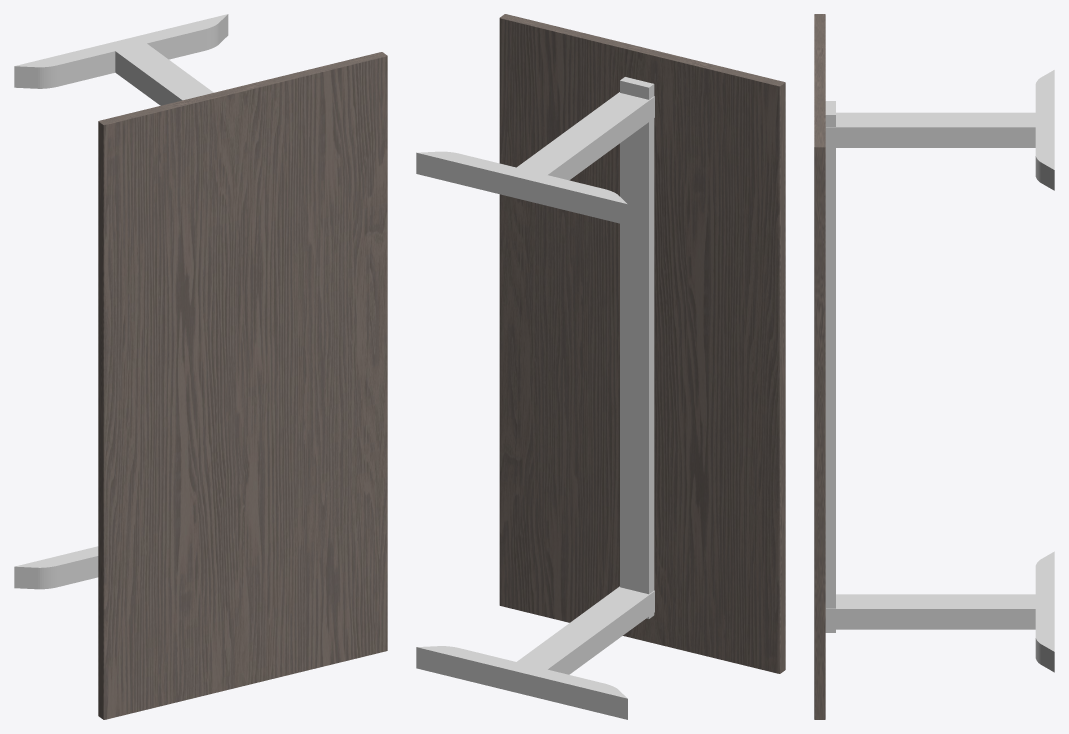
The model's file is work_table.glb.
The picture shows the model from 3 angles, left to right: view 1: azimuth 30°, elevation 25°; view 2: azimuth 150°, elevation 25°; view 3: azimuth 270°, elevation 25°; orthographic projection. The views are drawn at different scales.
Parts seen in each view (by area): view 1: tabletop.026, tableleg.001, tableleg.002; view 2: tabletop.026, tableleg.026, tableleg.002, tableleg.001; view 3: tableleg.002, tableleg.001, tabletop.026, tableleg.026.
Boxes of the visible parts, x1,y1,x2,y2 form: tabletop.026: (98,52,387,719); tableleg.001: (14,14,228,105); tableleg.002: (14,546,98,589); tabletop.026: (499,14,785,673); tableleg.026: (620,77,654,618); tableleg.002: (416,586,654,719); tableleg.001: (416,92,654,225); tableleg.002: (826,551,1054,672); tableleg.001: (826,70,1054,190); tabletop.026: (814,14,825,719); tableleg.026: (825,101,835,632).
Bounding box in the file's own units: 0.6909 × 1.38 × 0.5255.
Materials: 2 (1 with a texture image).
